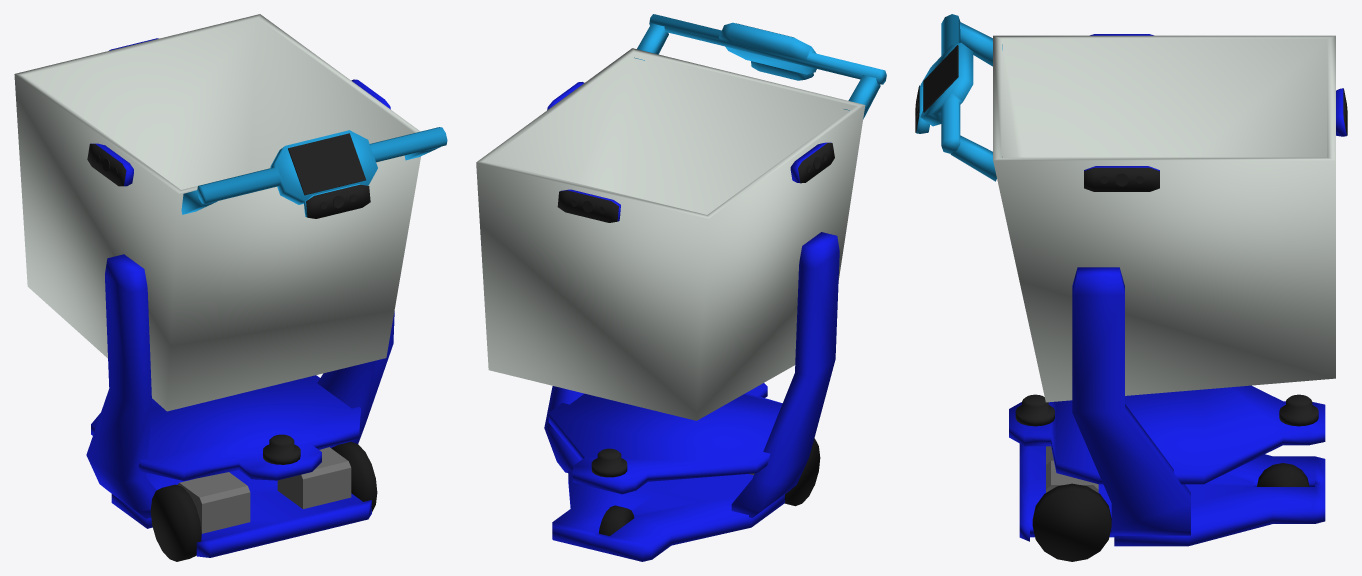
Rendered from Shopping_cart.fbx.
3 renders of one model, left to right at view 1: azimuth 30°, elevation 25°; view 2: azimuth 150°, elevation 25°; view 3: azimuth 270°, elevation 25°, orthographic. The views are drawn at different scales.
Visible parts, largest first — view 1: basket, sensor_level, Cart-support, Cart-base, motors, screen, wheel-left, camera-back, wheel-right, camera-left, lidar-back; view 2: basket, sensor_level, Cart-support, Cart-base, camera-front, camera-left, wheel-left, lidar-front, wheel; view 3: basket, Cart-support, sensor_level, Cart-base, wheel-right, camera-right, screen, lidar-front, wheel, lidar-back, motors, camera-front.
Boxes of the visible parts, x1,y1,x2,y2 form: basket: (14, 14, 447, 411); sensor_level: (91, 375, 360, 480); Cart-support: (86, 254, 394, 518); Cart-base: (111, 470, 371, 557); motors: (177, 447, 351, 533); screen: (288, 133, 365, 195); wheel-left: (150, 484, 201, 561); camera-back: (304, 184, 370, 218); wheel-right: (331, 441, 377, 511); camera-left: (87, 143, 133, 186); lidar-back: (263, 434, 300, 464); basket: (476, 14, 886, 420); sensor_level: (548, 383, 782, 494); Cart-support: (544, 232, 839, 517); Cart-base: (552, 471, 784, 561); camera-front: (557, 189, 620, 222); camera-left: (790, 142, 834, 183); wheel-left: (784, 438, 820, 506); lidar-front: (591, 448, 627, 477); wheel: (599, 505, 634, 536); basket: (920, 14, 1335, 402); Cart-support: (1072, 267, 1190, 535); sensor_level: (1009, 385, 1325, 484); Cart-base: (1019, 444, 1325, 546); wheel-right: (1032, 483, 1111, 561); camera-right: (1084, 166, 1159, 191); screen: (923, 45, 958, 112); lidar-front: (1279, 394, 1318, 426); wheel: (1257, 463, 1309, 486); lidar-back: (1015, 394, 1054, 426); motors: (1046, 446, 1098, 492); camera-front: (1336, 88, 1347, 136).
Bounding box in the file's own units: 61.56 × 95.22 × 81.96.
